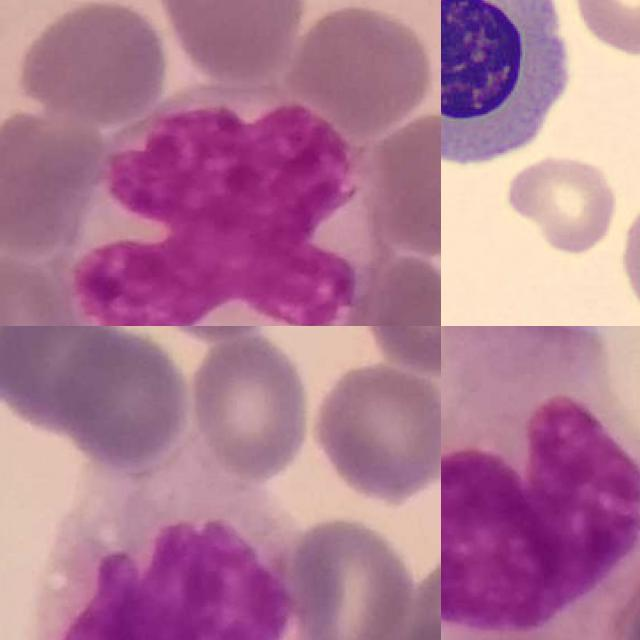Lymphocyte: (441, 0, 580, 181)
Monocyte: (73, 86, 382, 326), (441, 326, 640, 640), (22, 449, 309, 640)
RBC: (501, 149, 622, 259), (566, 0, 640, 59)
